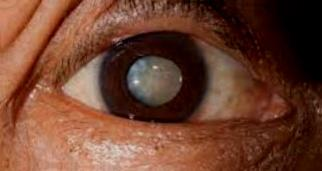eye: (99, 32, 208, 124)
